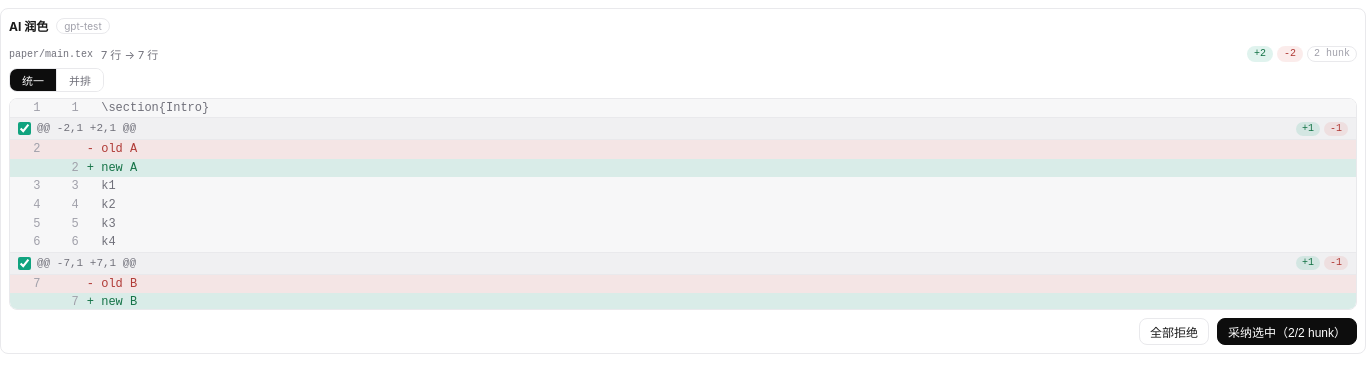
it: DiffApprovalCard2 · 审计与视图 › 切换并排视图：pair 行四列、左删右增同格行
The width and height of the screenshot is (1366, 371).
Click the button "并排".
click(80, 80)  # box [56,69,103,91]
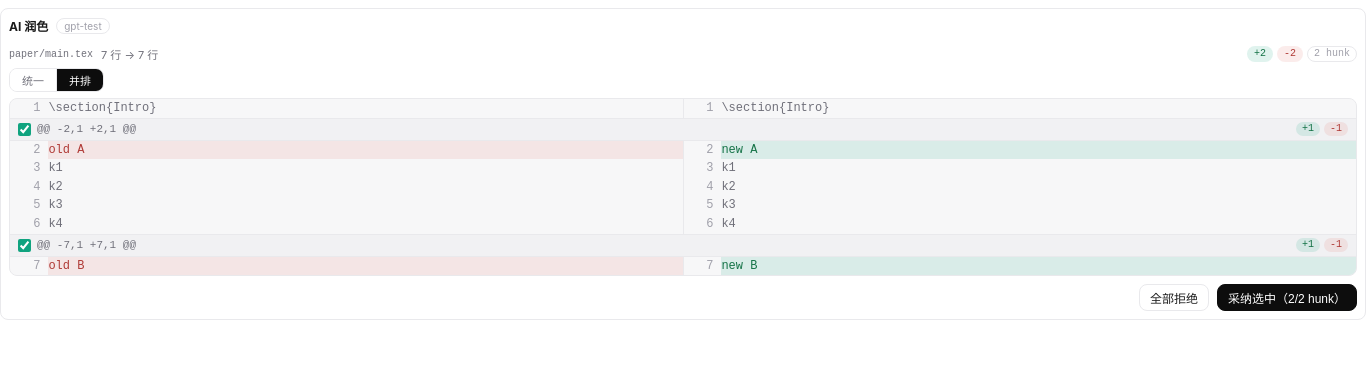
Expected: the text "old A" is shown, [48,141,683,159]
Expected: the element with class "sf-approval-pair" showing "2 old A 2 new A" is shown, [10,141,1356,159]
Expected: the 1st text "\\section{Intro}" is shown, [48,101,156,115]
